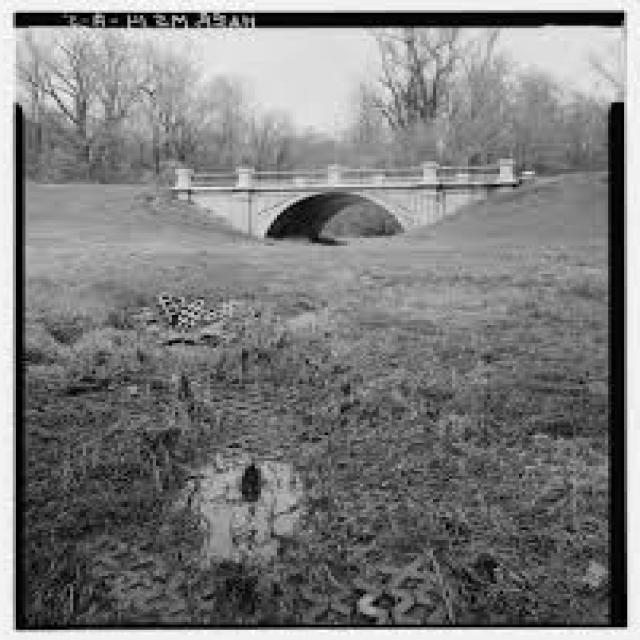Bridges: (111, 102, 580, 272)
